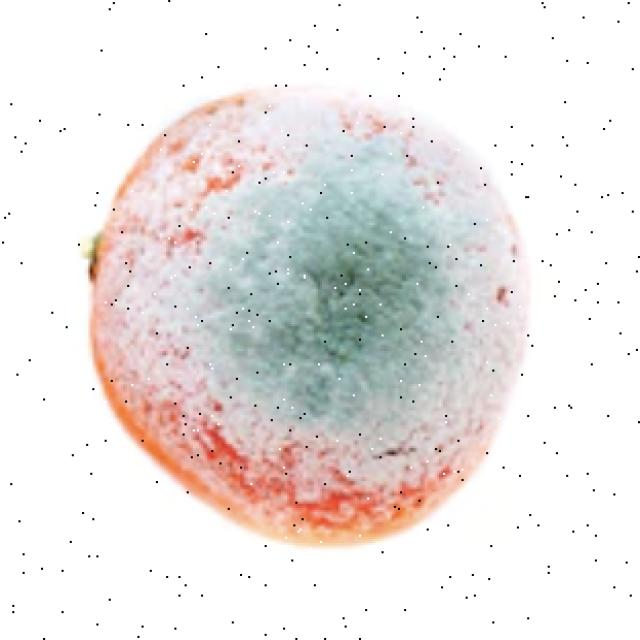Organik: (56, 28, 562, 576)
